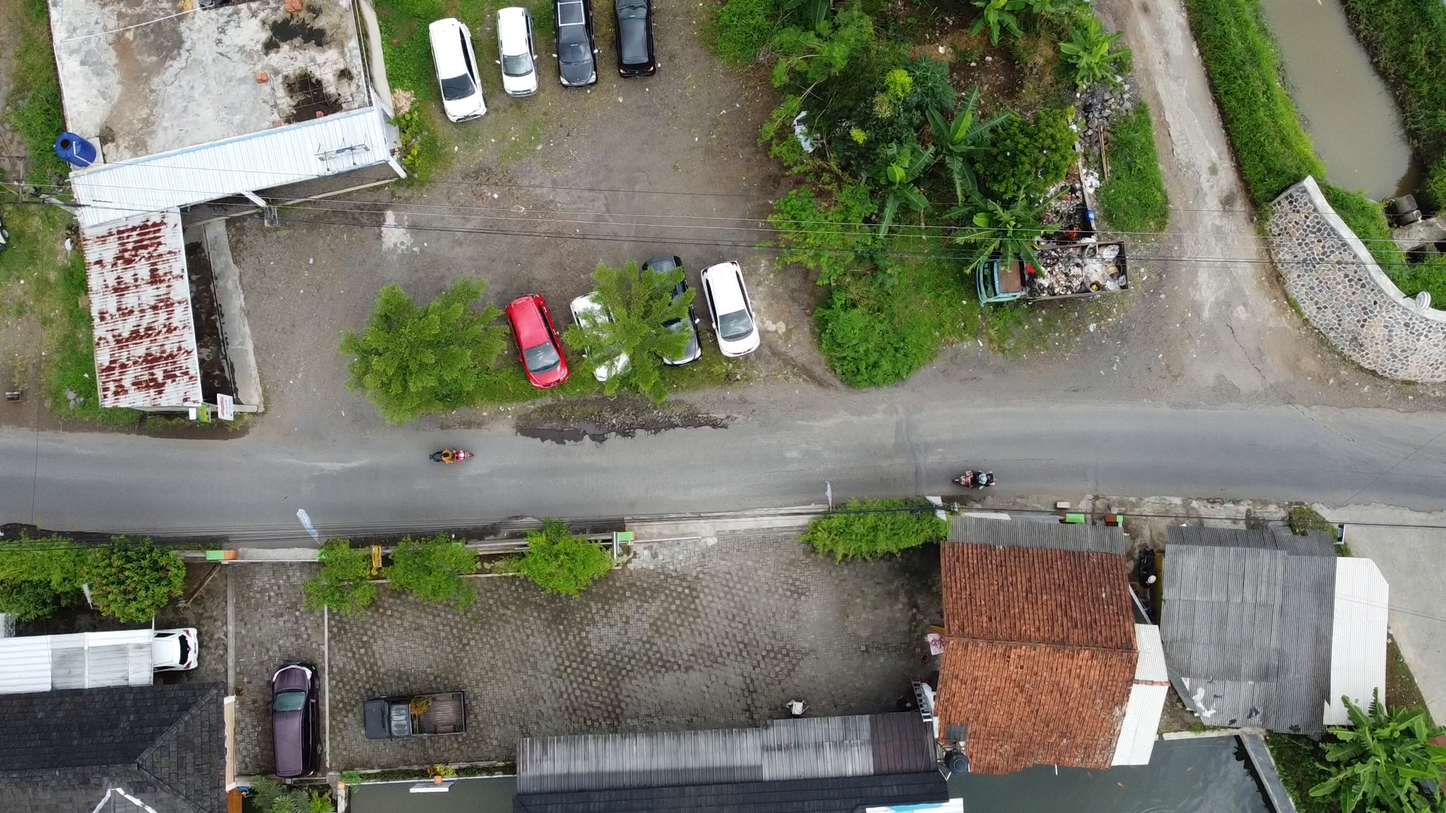mobil: (251, 656, 334, 787), (421, 8, 508, 127), (352, 669, 477, 748), (694, 251, 768, 377), (627, 250, 705, 369), (496, 286, 570, 400), (563, 289, 640, 391), (539, 4, 615, 99), (487, 6, 551, 110), (599, 3, 664, 93), (150, 618, 203, 684)
